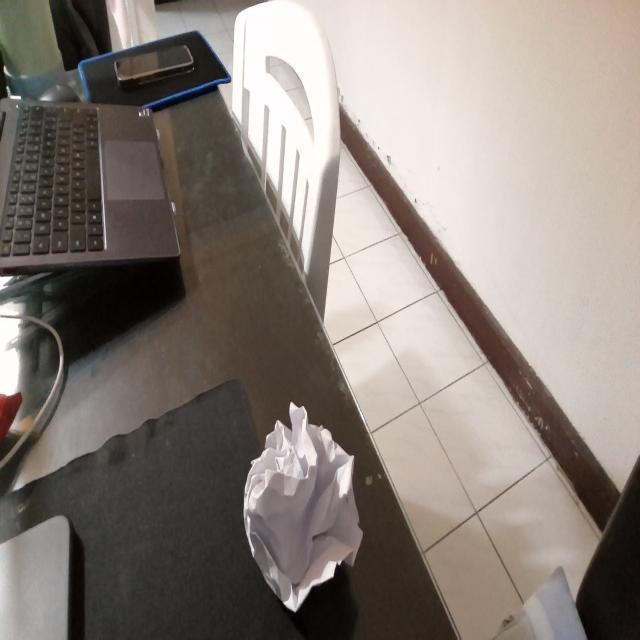crumpled_paper: (240, 399, 365, 613)
